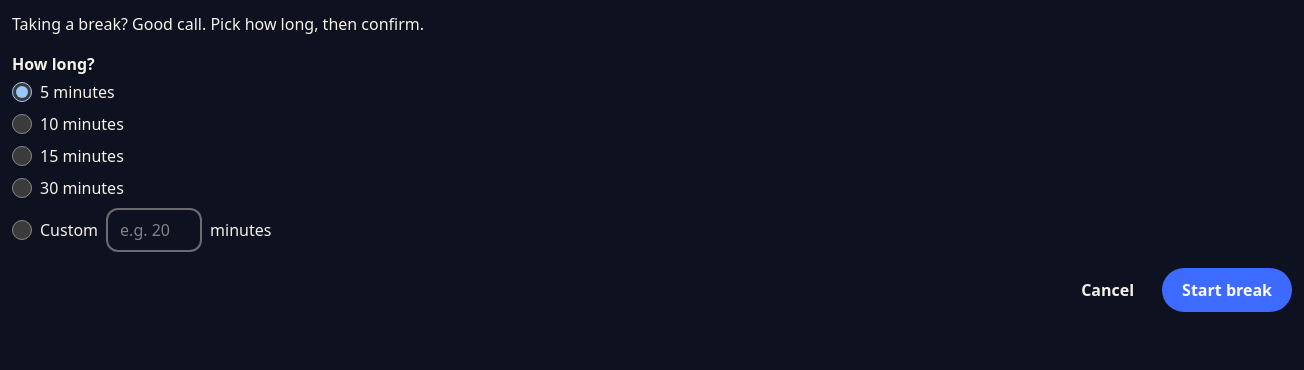
Scenario: BreakPicker › starts a custom duration and rejects bad ones
Later steps or results of the test are not shown.
In the field named "Custom minutes": (154, 230) [106,208,202,252], type "abc"
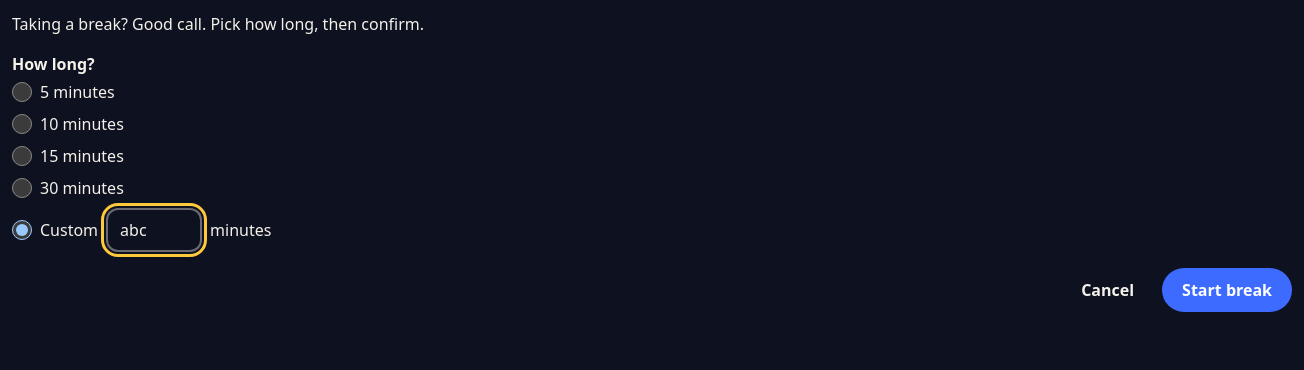
Click the button "Start break": (1227, 290) [1162,268,1292,312]
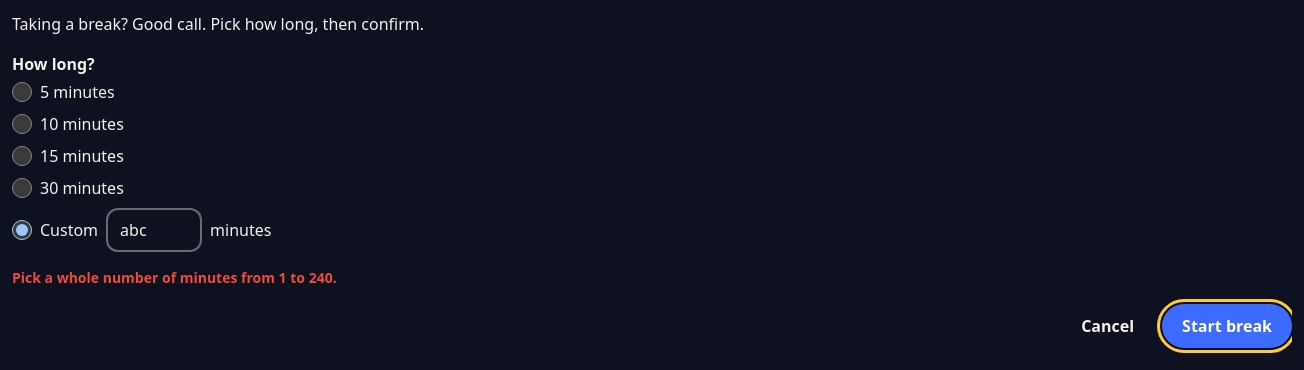
Expected: the message "Pick a whole number of minutes from 1 to 240." is shown, [12,268,337,287]
